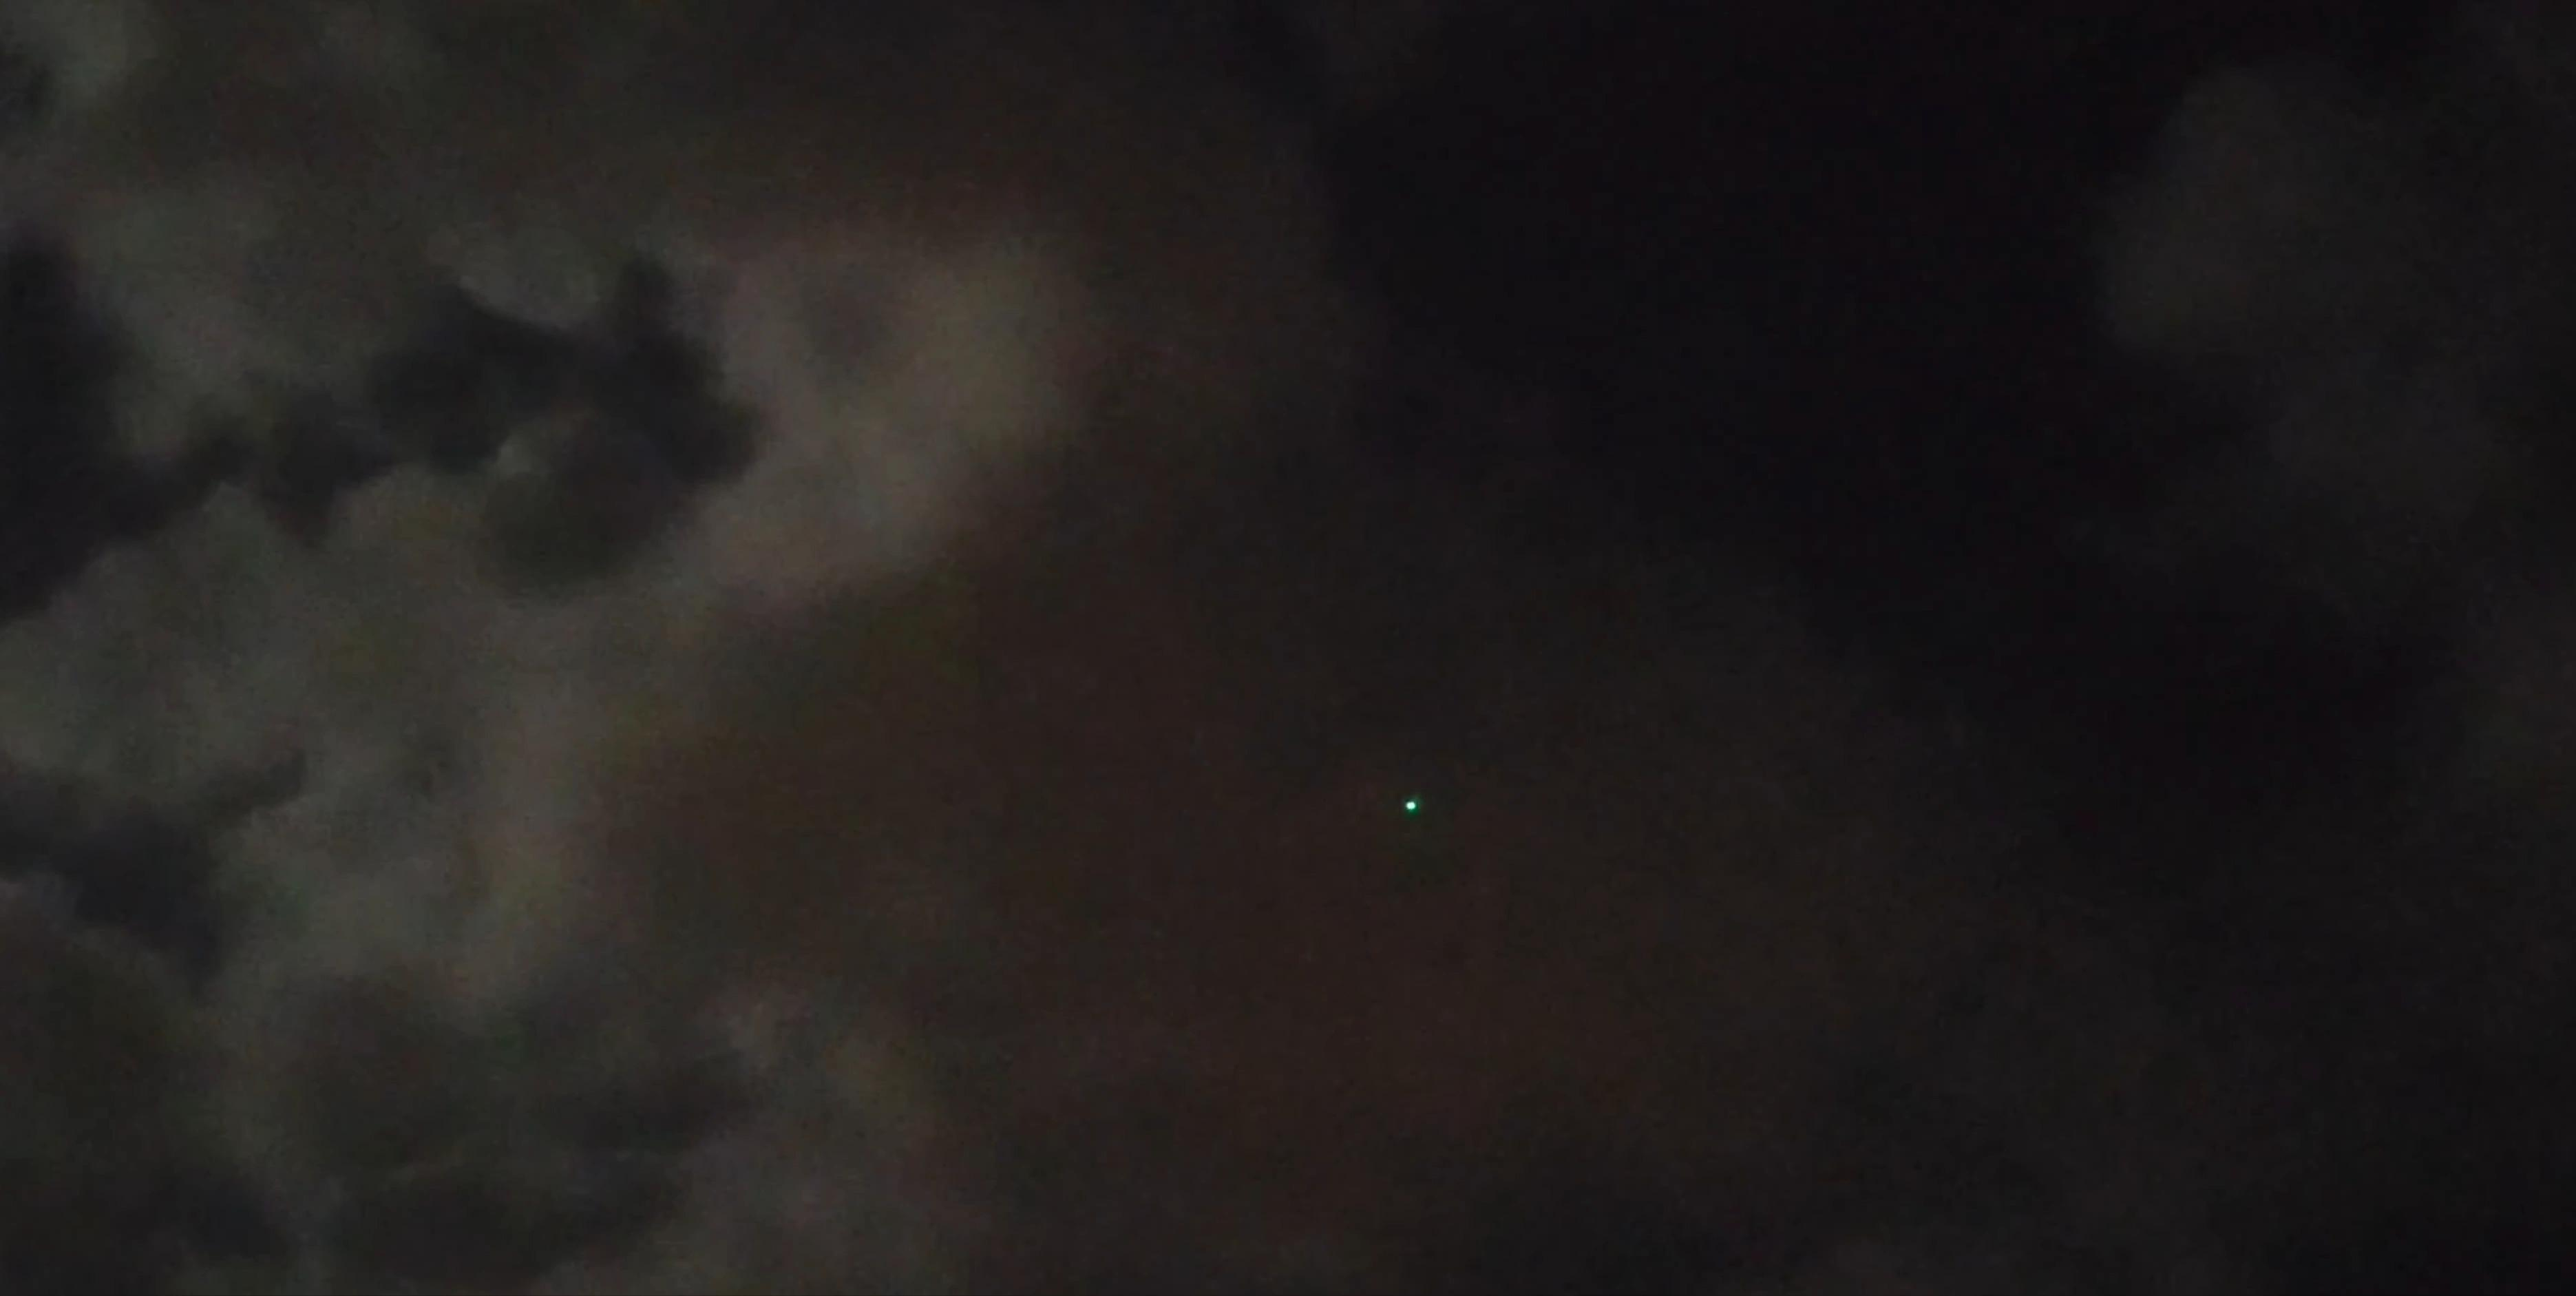Plane: (1381, 780, 1441, 836)
